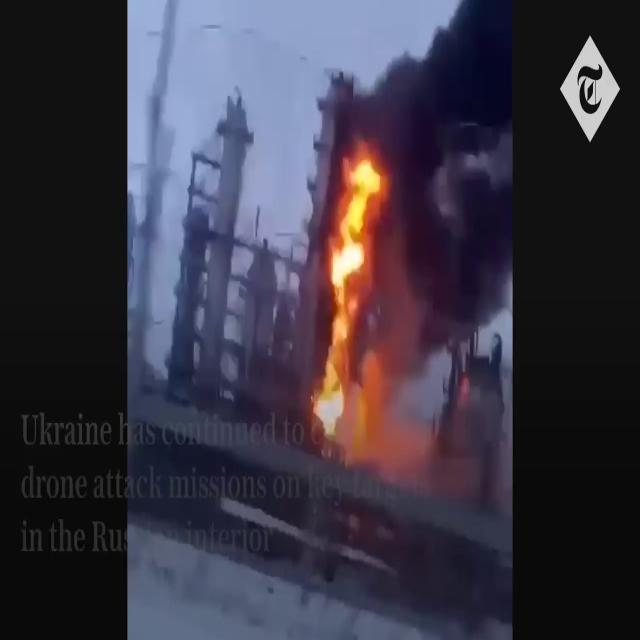Fire: (309, 140, 394, 452)
Smoke: (380, 1, 512, 338)
